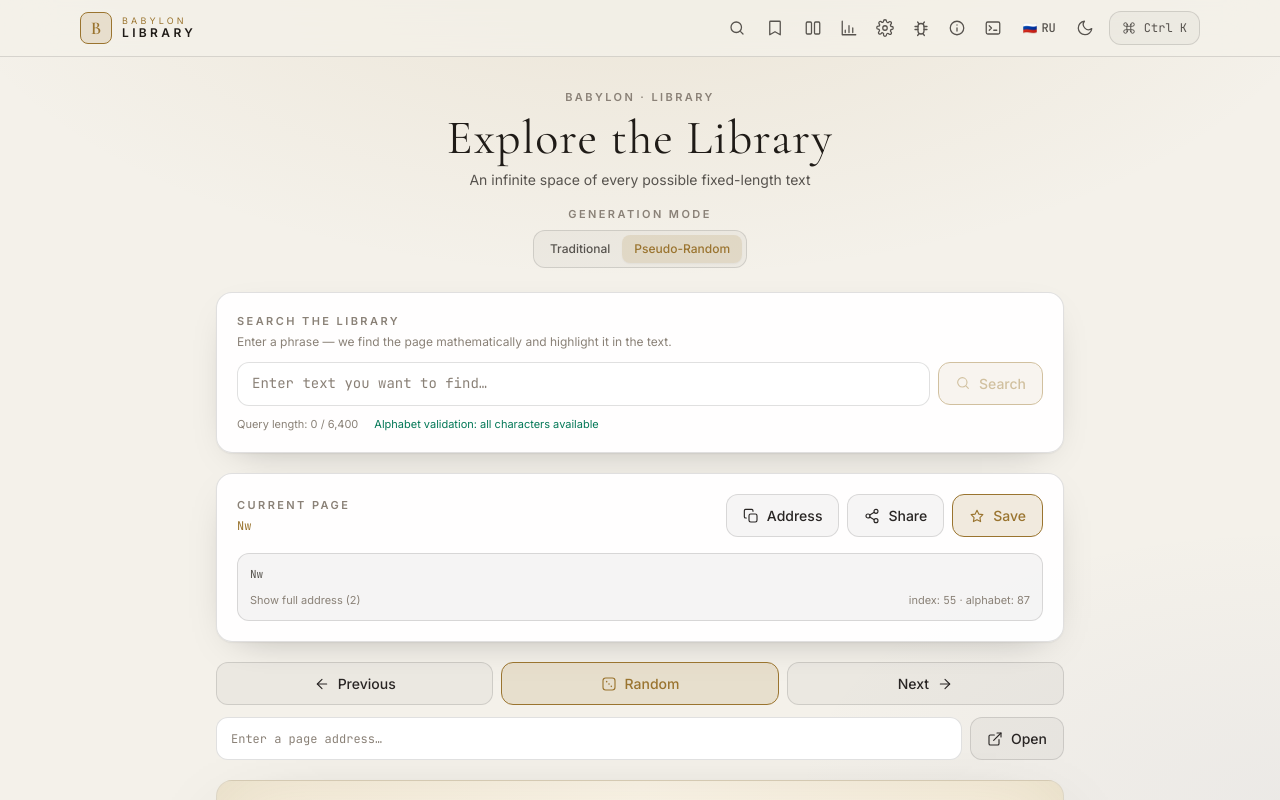
Test: App (integration) › stores the generation mode in bookmarks
Click the button "Save" at (998, 516), box [952, 494, 1043, 537]
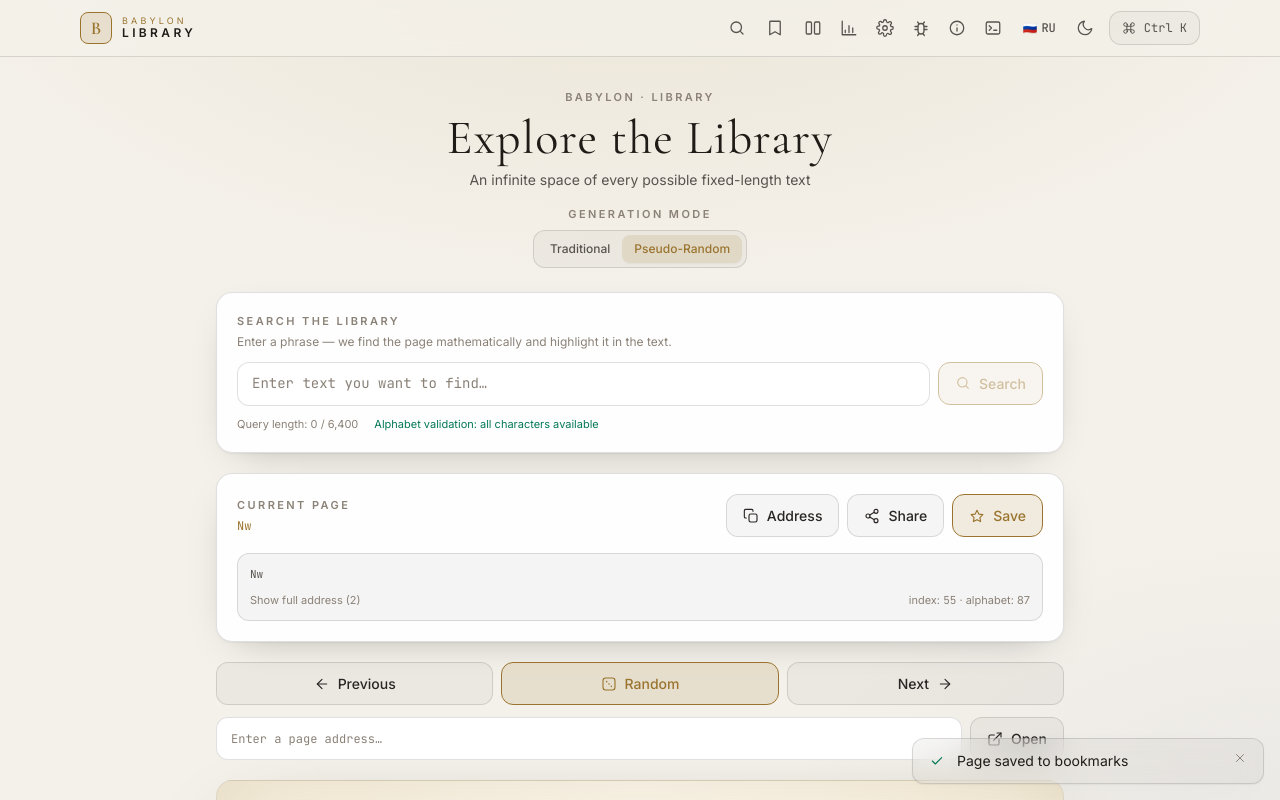
Click the button named "bookmarks" at (775, 28), box [757, 10, 793, 46]
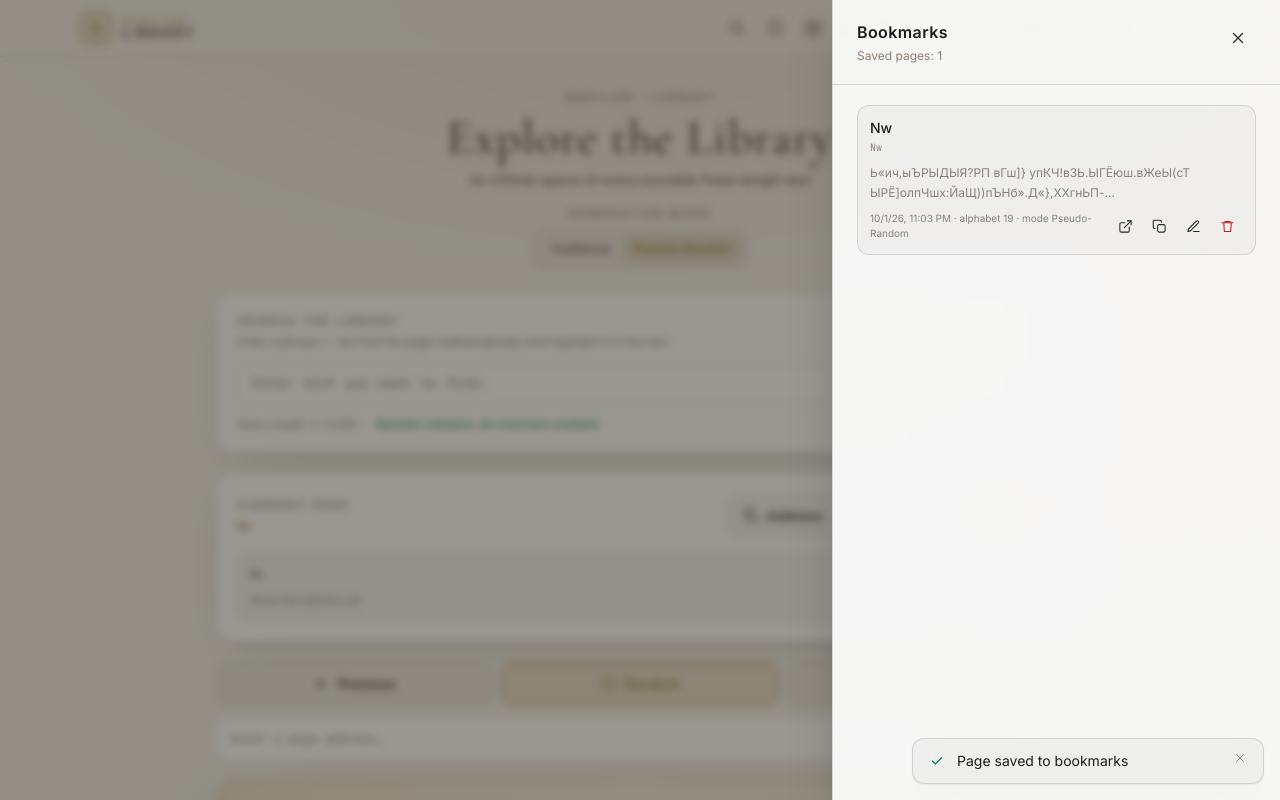
Expected: the text "Pseudo-Random" is shown, [622, 235, 742, 263]
Now the text "Saved pages: 1" is shown, box [857, 48, 948, 64]
